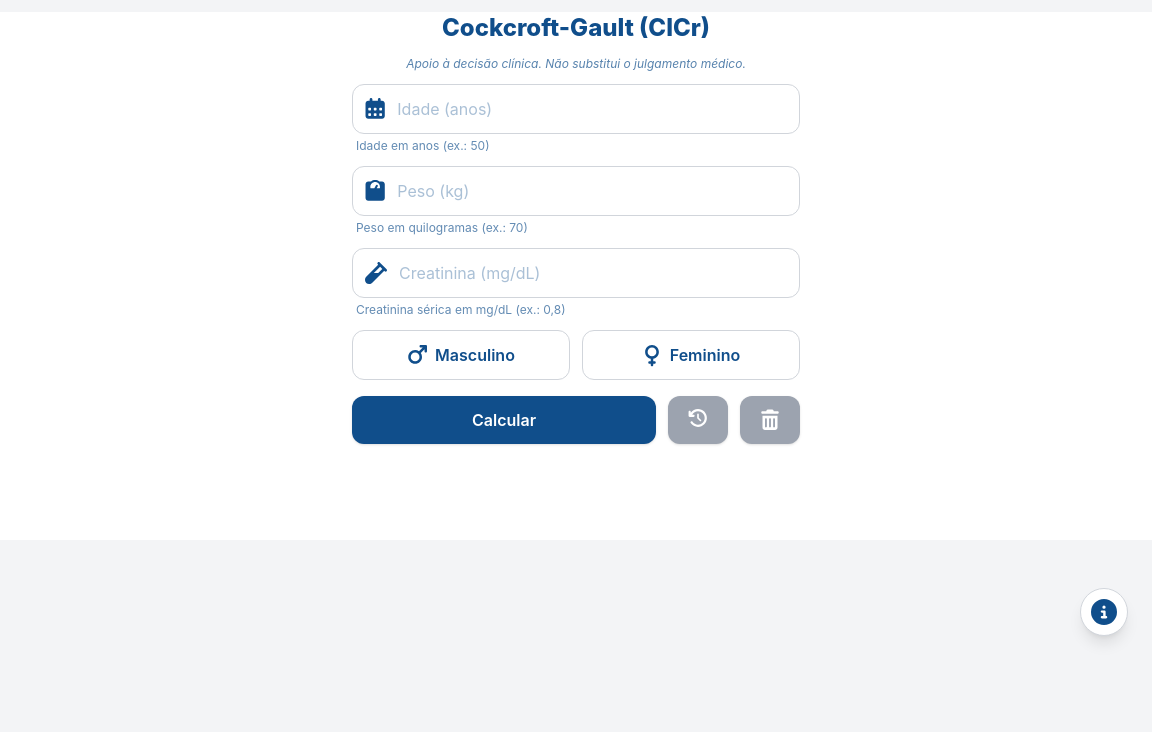
it: Cockcroft-Gault (interface) › Limpar zera tudo
This screenshot has width=1152, height=732.
Type "70" into the field with placeholder "Peso (kg)" at (592, 191), box [397,167,787,215]
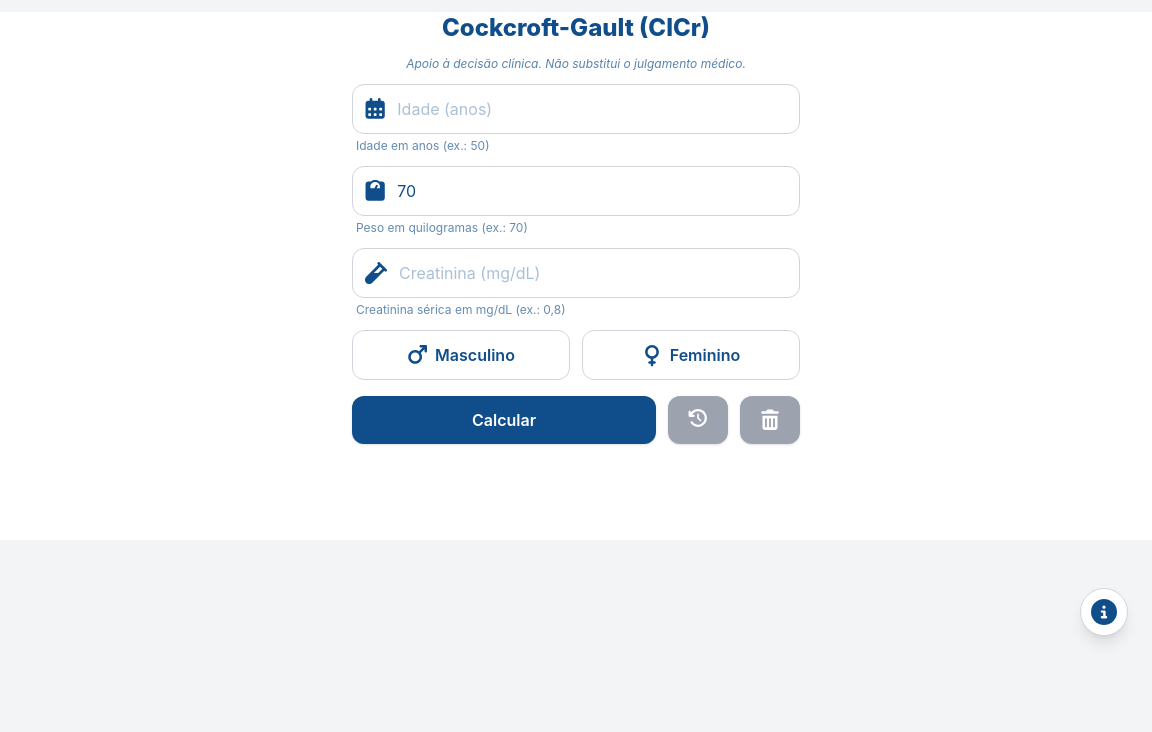
Click the button named "Limpar campos" at (770, 420), box [740,396,800,444]
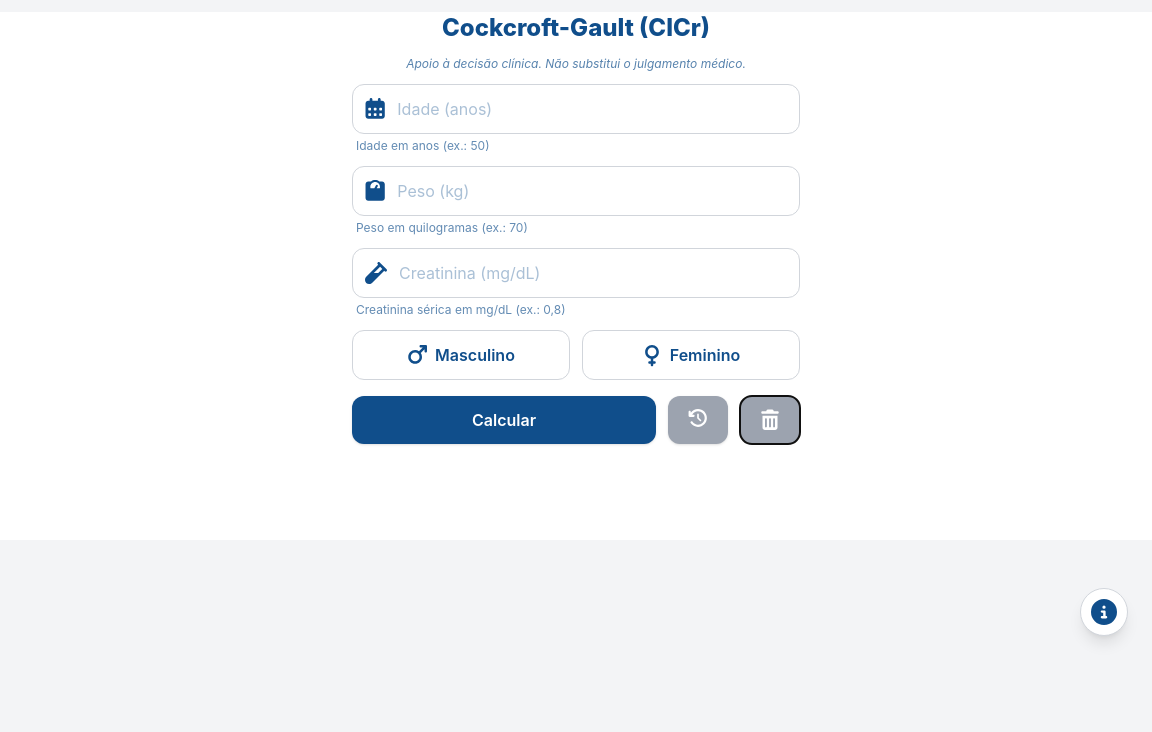
Result: the field with placeholder "Peso (kg)" is empty at [397,167,787,215]
